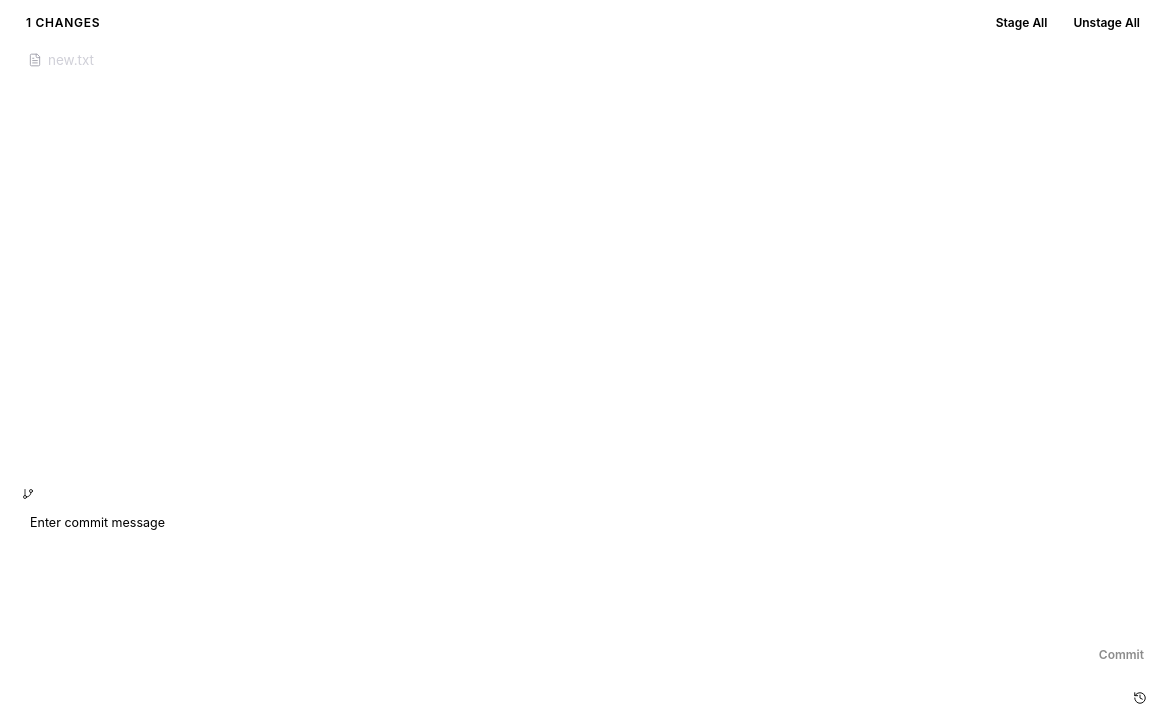
Test: GitChangesPane › disables Discard Changes for untracked files
Right-click the button with test id "git-file-new.txt".
right_click(71, 60)  # box left=20, top=48, right=1156, bottom=72
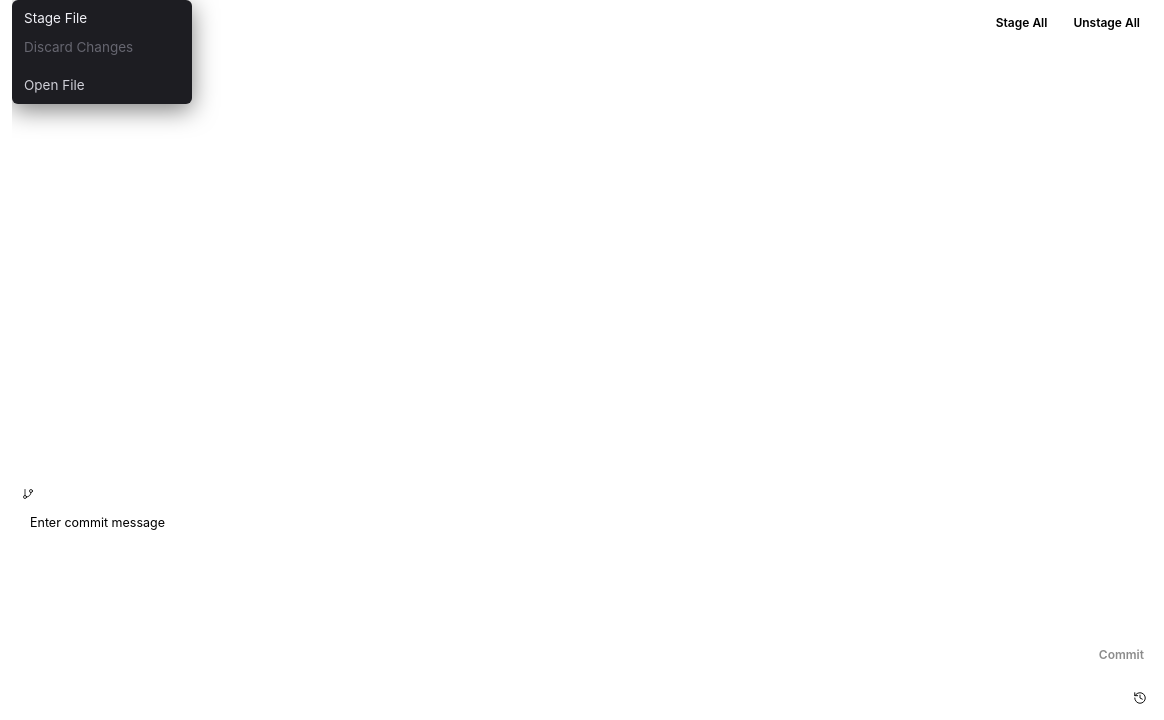
Expected: the menu item with test id "git-ctx-discard" is disabled, left=12, top=33, right=192, bottom=62
Expected: the menu item with test id "git-ctx-stage" reads "Stage File", left=12, top=4, right=192, bottom=33
